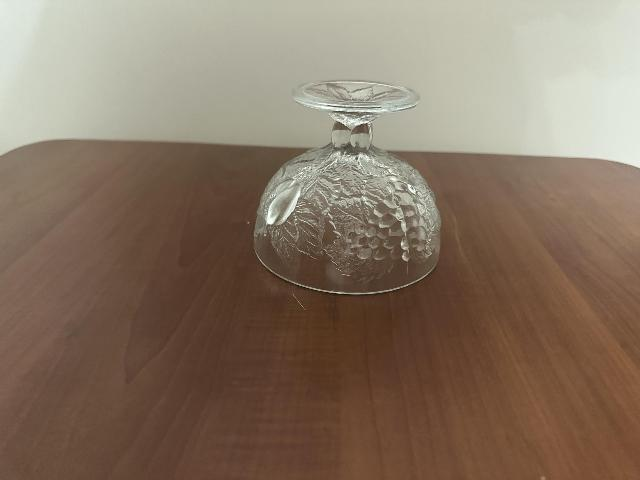Cam: (249, 67, 451, 292)
